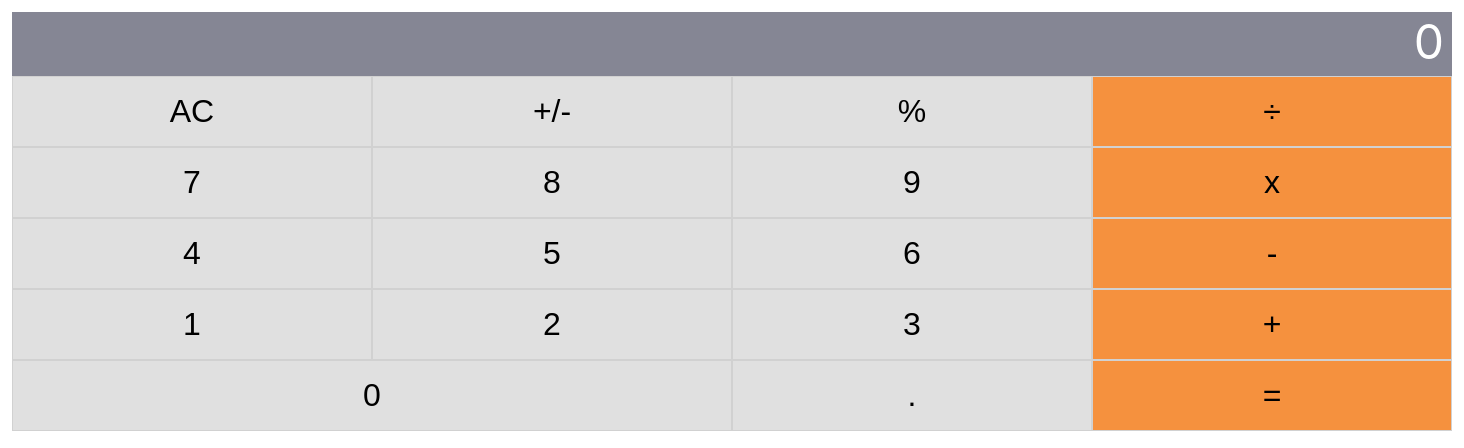
Test: test the calculator component UI › When you multi 12 * 11 result should be 132
Step 1. Click the button with test id "no-one" → (192, 324), box [12,289,372,360]
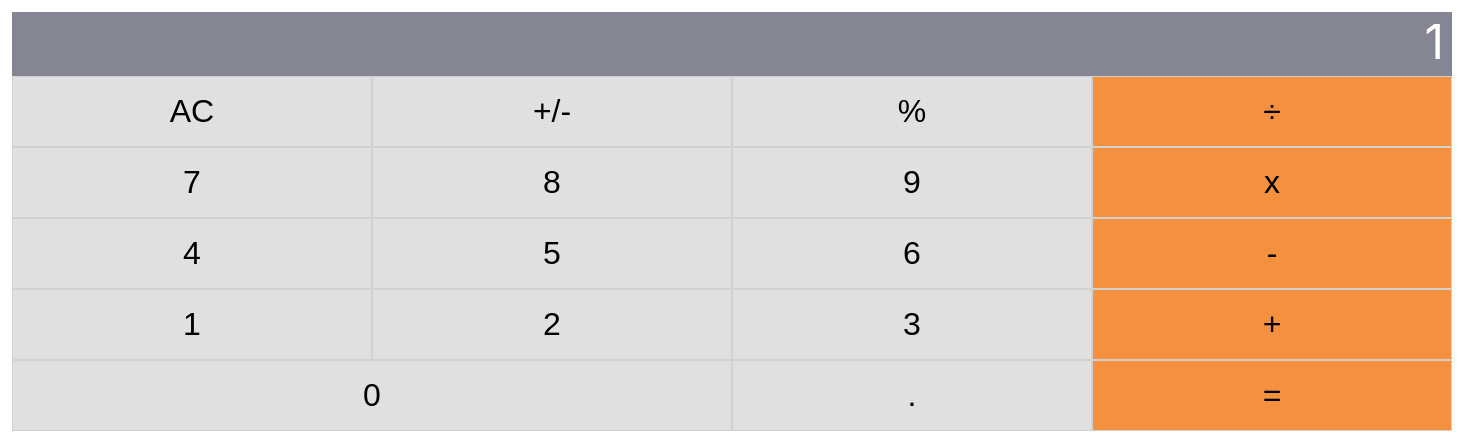
Step 2. Click the button with test id "no-two" → (552, 324), box [372,289,732,360]
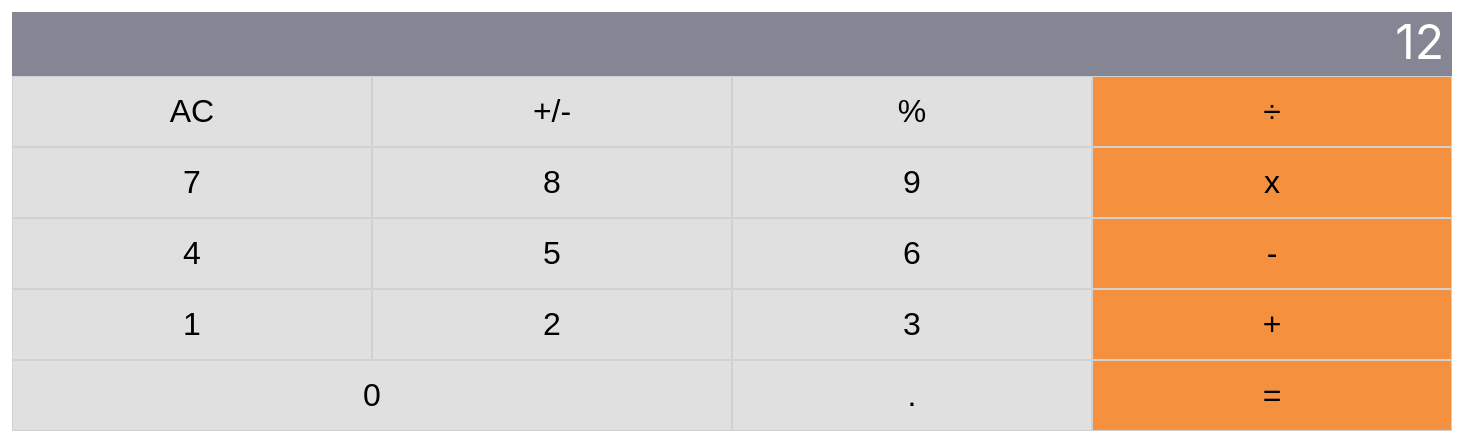
Step 3. Click the button with test id "multi" → (1272, 182), box [1092,147,1452,218]
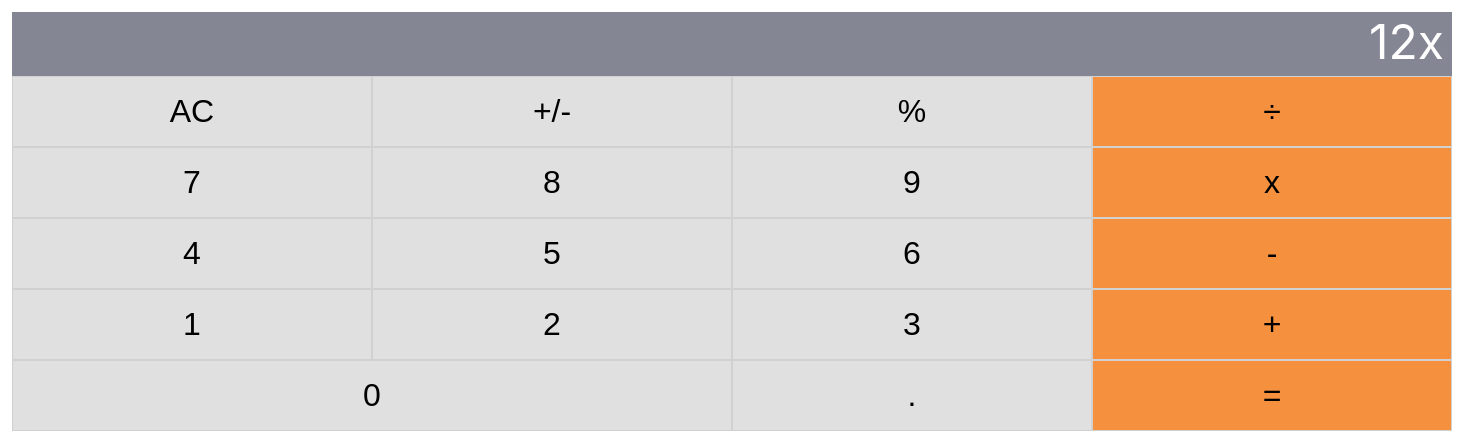
Step 4. Click the button with test id "no-one" → (192, 324), box [12,289,372,360]
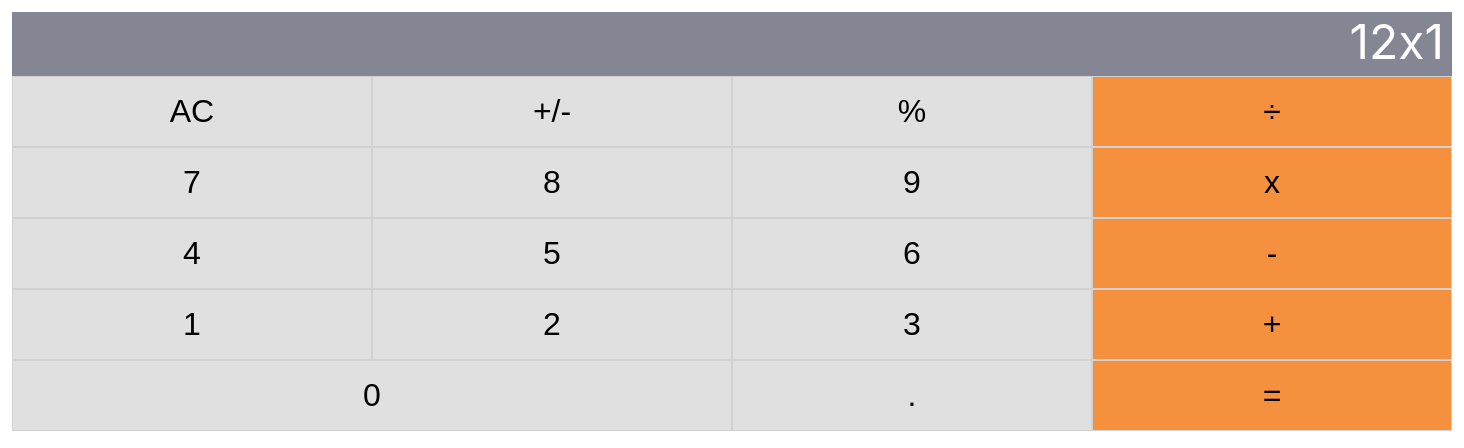
Step 5. Click the button with test id "no-one" → (192, 324), box [12,289,372,360]
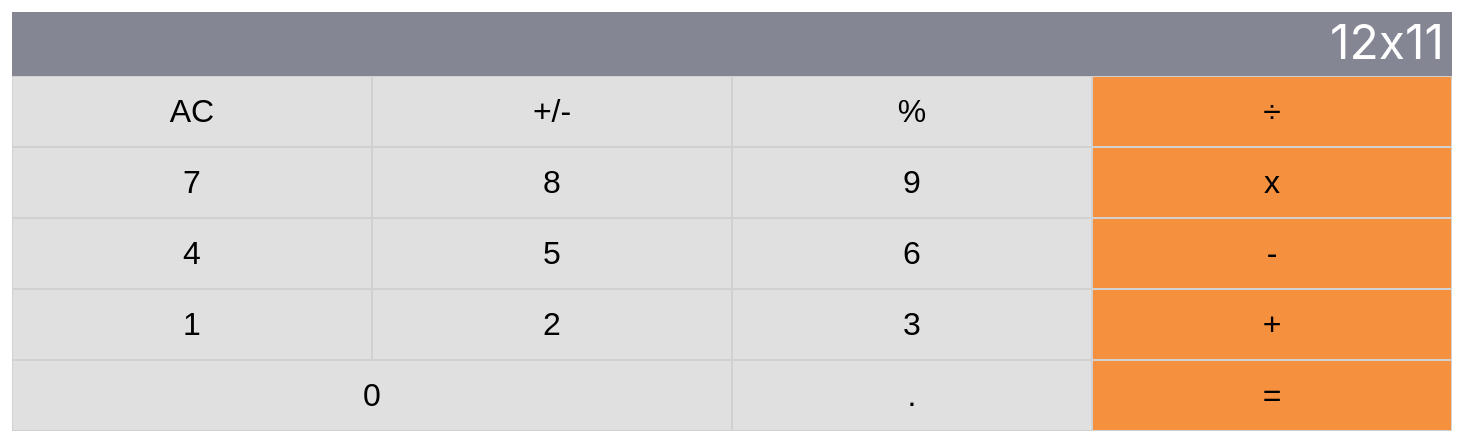
Step 6. Click the button with test id "equal" → (1272, 396), box [1092,360,1452,431]
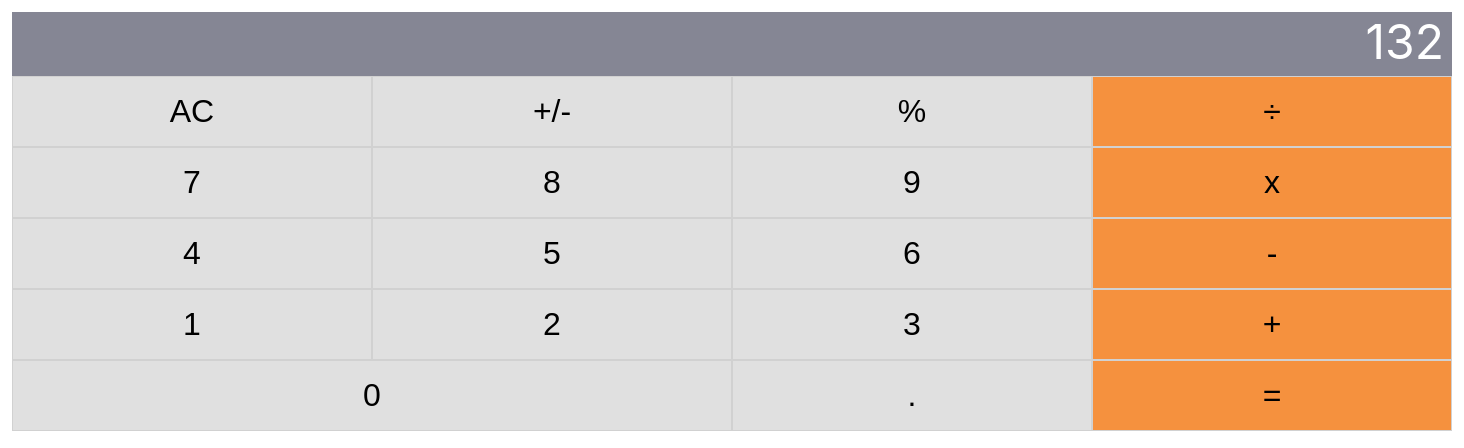
Expected: the text with test id "result" reads "132", [1366,12,1444,71]
